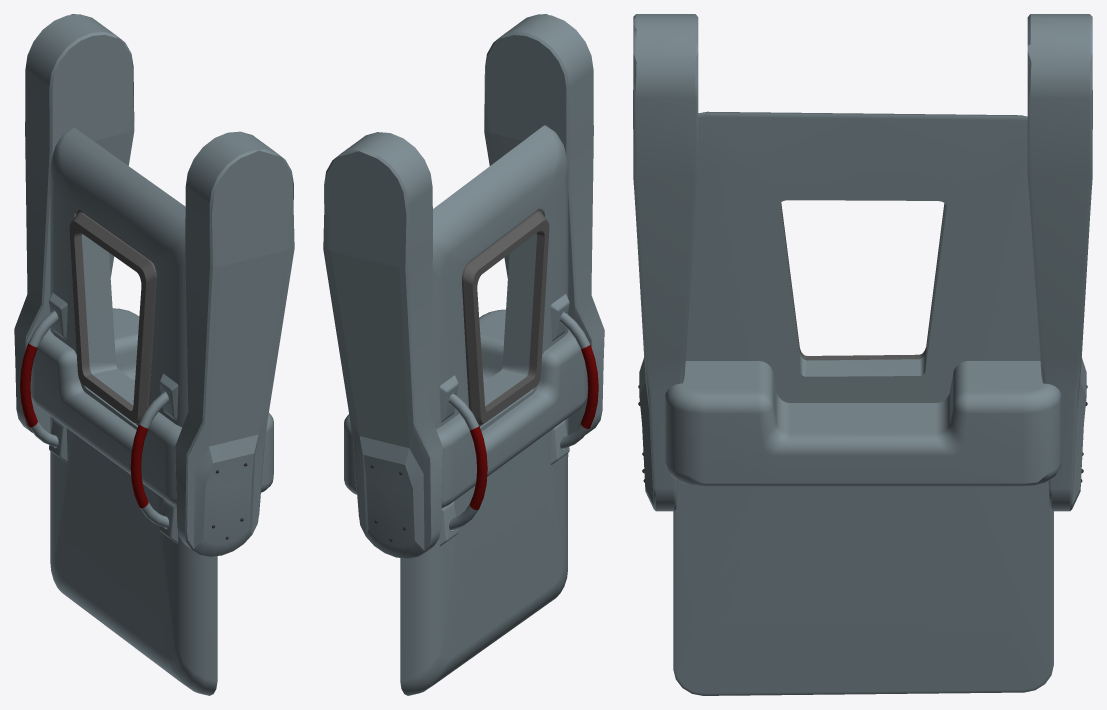
Rendered from Sleep_Capsule_Door.fbx.
The picture shows the model from 3 angles, left to right: view 1: azimuth 30°, elevation 25°; view 2: azimuth 150°, elevation 25°; view 3: azimuth 270°, elevation 25°; orthographic projection. The views are drawn at different scales.
Visible parts, largest first — view 1: Sleep_Capsule_Door; view 2: Sleep_Capsule_Door; view 3: Sleep_Capsule_Door.
Part boxes in pixels (x1,y1,x2,y2): Sleep_Capsule_Door: (14,14,294,695); Sleep_Capsule_Door: (323,14,604,695); Sleep_Capsule_Door: (633,14,1092,695).
Size of the model in its own units: 49.91 by 206 by 125.
